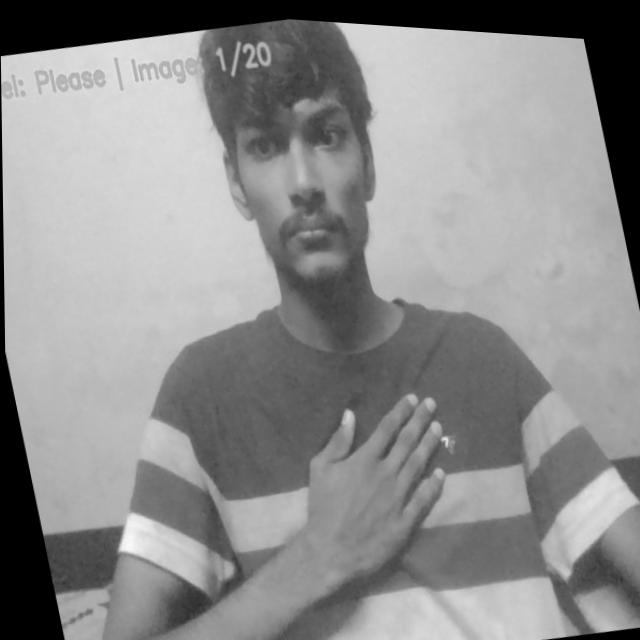Please: (274, 374, 473, 600)
